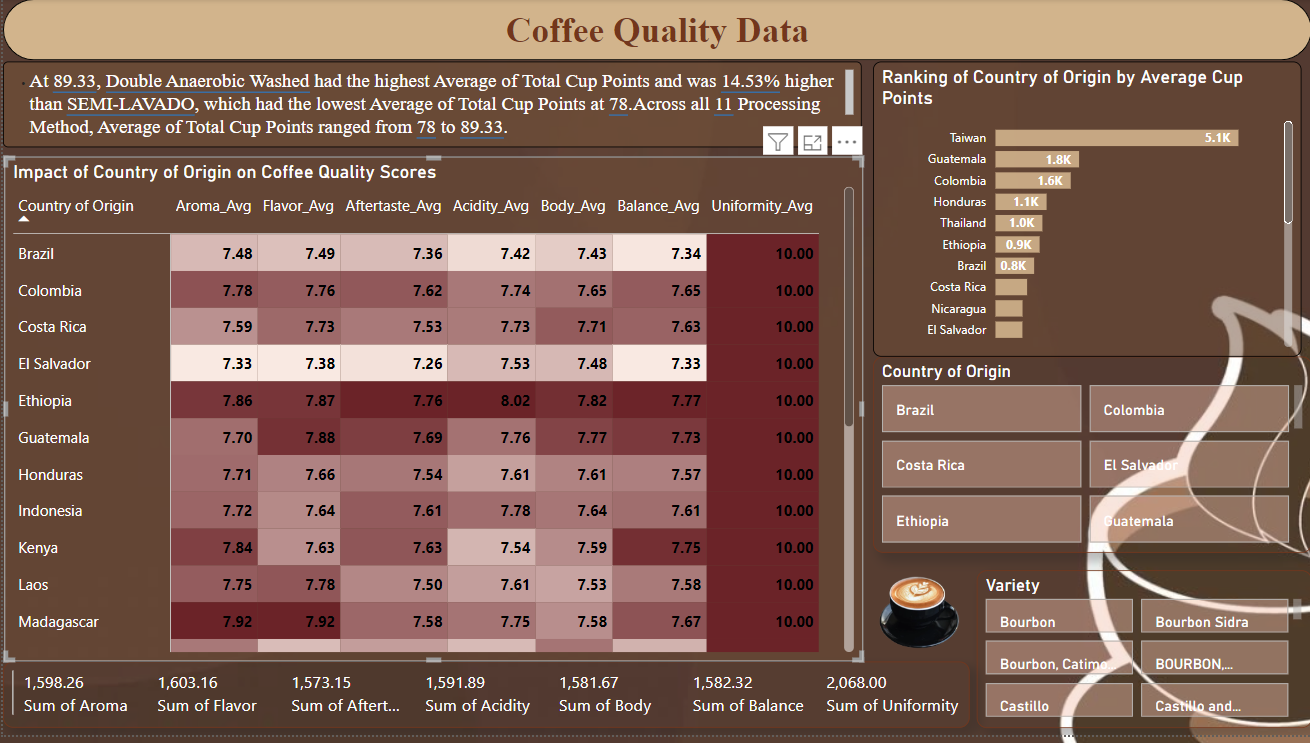

Layout of this report page (visuals, bound fields, positions):
{"tool":"powerbi","page":{"name":"Task -2.2","canvas":[1280,720],"ordinal":2},"visuals":[{"type":"shape","box":[0,0,1280.3,59.9],"z":0},{"type":"multiRowCard","fields":{"Values":["Sum(Cup Points.Aroma)","Sum(Cup Points.Flavor)","Sum(Cup Points.Aftertaste)","Sum(Cup Points.Acidity)","Sum(Cup Points.Body)","Sum(Cup Points.Balance)","Sum(coffee data.Uniformity)"]},"box":[0,648.1,945.2,64.8],"z":1000},{"type":"advancedSlicerVisual","fields":{"Values":["coffee data.Country of Origin"]},"box":[851.1,349.7,429.2,192],"z":2000},{"type":"advancedSlicerVisual","fields":{"Values":["coffee data.Variety"]},"box":[952.6,558.8,327.7,154.1],"z":3000},{"type":"clusteredBarChart","title":"Ranking of Country of Origin by Average Cup Points","fields":{"Y":["Sum(coffee data.Total Cup Points)"],"Category":["coffee data.Country of Origin"]},"box":[851.1,61.1,419.4,288.6],"z":4000},{"type":"pivotTable","title":"Impact of Country of Origin on Coffee Quality Scores","fields":{"Values":["Cup Points.Aroma_Avg","Cup Points.Flavor_Avg","Cup Points.Aftertaste_Avg","Cup Points.Acidity_Avg","Cup Points.Body_Avg","Cup Points.Balance_Avg","Cup Points.Uniformity_Avg"],"Rows":["coffee data.Country of Origin"]},"box":[1.2,154.1,840.1,494],"z":5000},{"type":"textbox","box":[0,61.1,840.1,84.4],"z":6000},{"type":"image","box":[841.3,550.3,105.2,97.8],"z":7000}]}

Visuals, with their boxes in screenshot pixels (x1, y1, x2, y2), scaled from the page's 1280x720 canvas onto the 1310x743 screenshot:
shape: 0:0:1309:62
multiRowCard - Sum(Cup Points.Aroma) x Sum(Cup Points.Flavor): 0:669:967:736
advancedSlicerVisual - coffee data.Country of Origin: 871:361:1309:559
advancedSlicerVisual - coffee data.Variety: 975:577:1309:736
"Ranking of Country of Origin by Average Cup Points" clusteredBarChart: 871:63:1300:361
"Impact of Country of Origin on Coffee Quality Scores" pivotTable: 1:159:861:669
textbox: 0:63:860:150
image: 861:568:969:669
